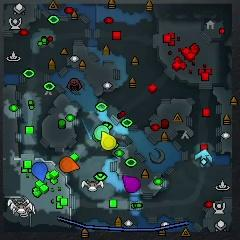p1: (32, 162, 47, 182)
p2: (94, 125, 110, 140)
p3: (122, 175, 141, 192)
p4: (100, 131, 116, 150)
p5: (59, 157, 80, 173)
x3: (195, 150, 213, 167)
